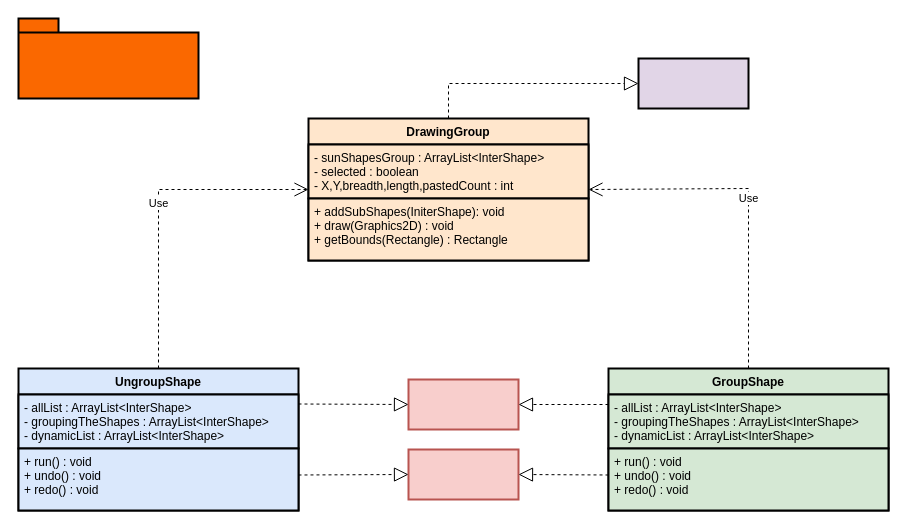
Image size: 906x530. Some labels were removed from this diagram. The centre of each missing label's shape, as x and y in pixels:
"Composite Pattern" belongs at pixel 108 58.
"«interface» IEventCallback" belongs at pixel 463 404.
"«interface» InterShape" belongs at pixel 693 83.
"«interface» IUndoable" belongs at pixel 463 474.
